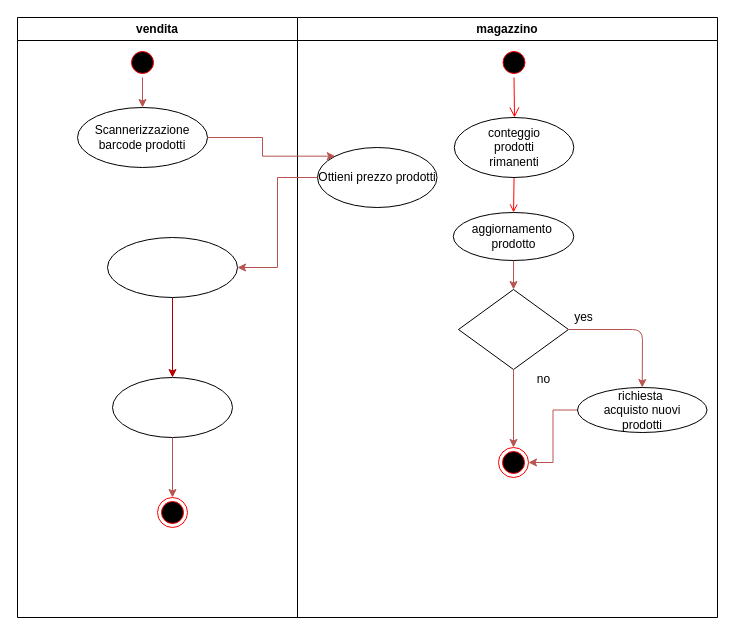
The diagram is 735 pixels wide and 635 high, and some of its shapes have lost their labels. Each missing label, with the centre of its shape:
"Calcola conto" goes at (172,267).
"emissione scontrini" goes at (172,407).
"insufficienti" goes at (513,329).
